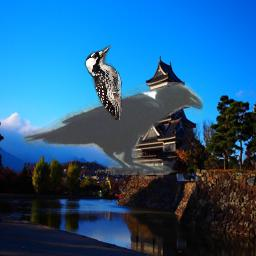Crow: (21, 82, 203, 175)
Woodpecker: (84, 45, 122, 120)
